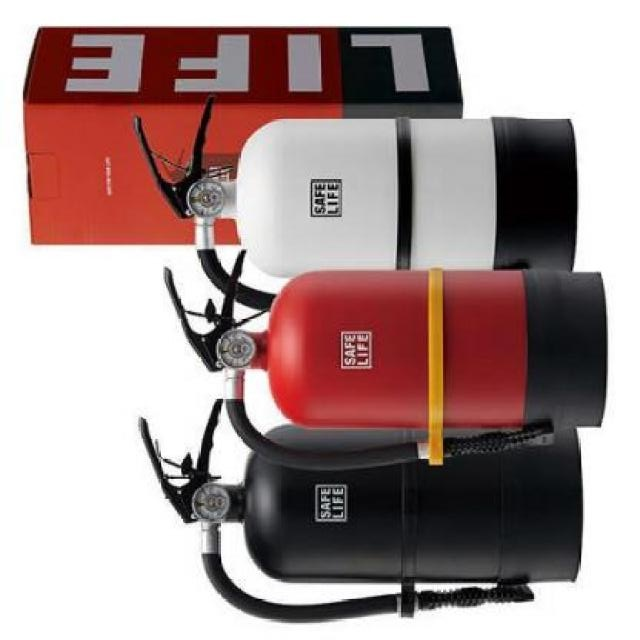fire extinguisher: (138, 398, 584, 624), (164, 249, 608, 471), (133, 93, 579, 313)
